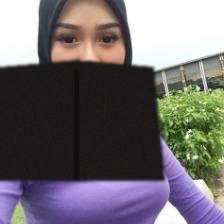Cadar_Niqab: (0, 0, 164, 180)
